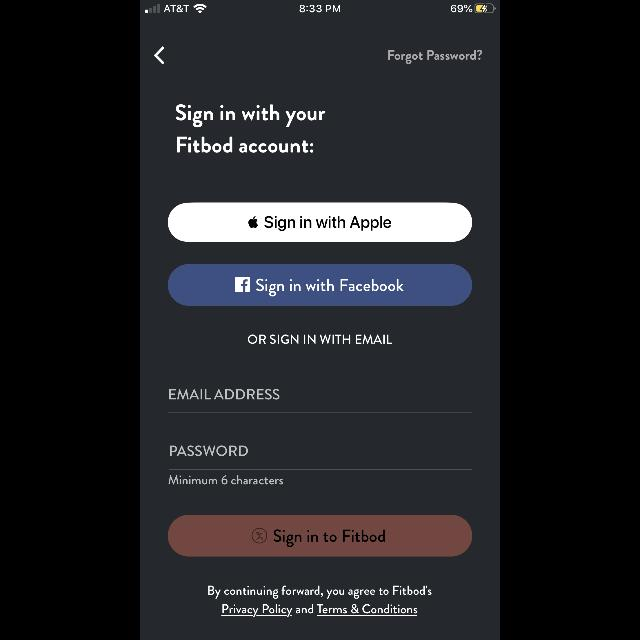icon: (154, 46, 164, 66)
input: (168, 388, 472, 414), (170, 446, 472, 470)
text: (176, 104, 326, 154), (208, 585, 432, 617), (248, 334, 392, 344), (389, 50, 483, 64), (170, 388, 280, 399), (168, 475, 284, 485), (170, 446, 248, 456)
textbutton: (168, 264, 472, 306), (168, 515, 472, 557), (168, 202, 472, 242)
uppertaskbar: (140, 0, 500, 14)
